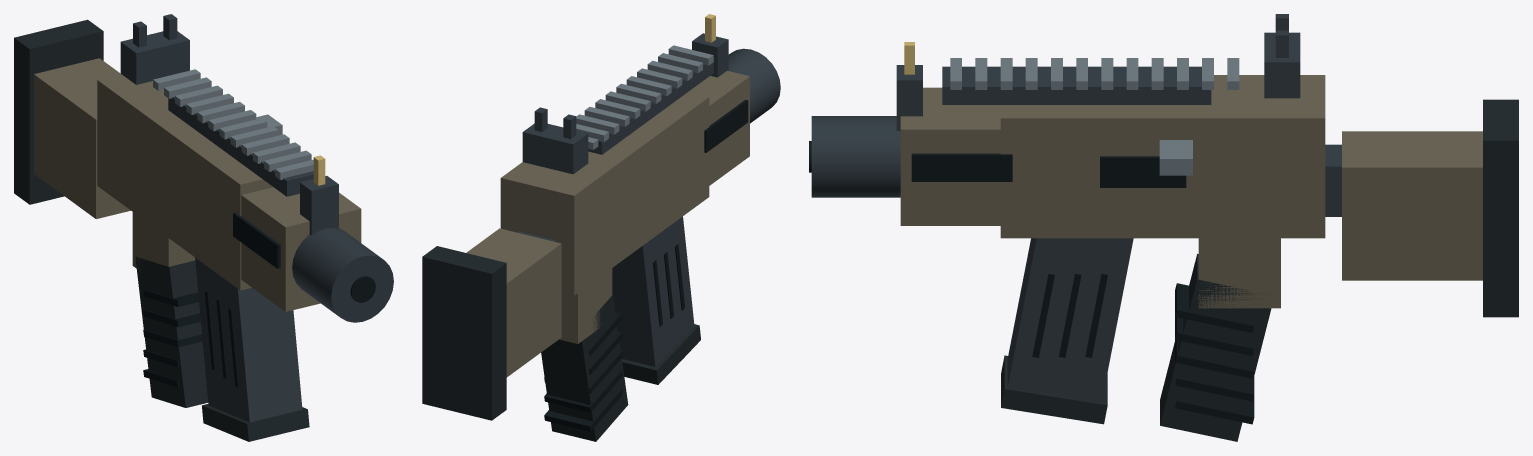
The model's file is smg_02_lynx.glb.
3 renders of one model, left to right at view 1: azimuth 30°, elevation 25°; view 2: azimuth 150°, elevation 25°; view 3: azimuth 270°, elevation 25°, orthographic. The views are drawn at different scales.
Parts seen in each view (by area): view 1: receiver, magazine, stock_body, grip, buttpad, handguard, suppressor, rear_sight_base, magazine_base, upper_rail, grip_tang, front_sight_base (+16 smaller); view 2: receiver, buttpad, magazine, stock_body, grip, handguard, rear_sight_base, grip_tang, suppressor, upper_rail, magazine_base, front_sight_base (+12 smaller); view 3: receiver, stock_body, magazine, handguard, grip, buttpad, upper_rail, suppressor, grip_tang, magazine_base, ejection_port, rear_sight_base (+8 smaller).
Part boxes in pixels (x1,y1,x2,y2): receiver: (97, 74, 273, 290); magazine: (195, 257, 302, 422); stock_body: (34, 58, 130, 218); grip: (135, 256, 208, 407); buttpad: (14, 19, 103, 204); handguard: (241, 187, 361, 311); suppressor: (292, 228, 393, 322); rear_sight_base: (120, 31, 189, 84); magazine_base: (202, 404, 309, 441); upper_rail: (168, 96, 313, 196); grip_tang: (132, 212, 195, 272); front_sight_base: (300, 176, 338, 235); receiver: (500, 92, 709, 295); buttpad: (422, 246, 506, 420); magazine: (612, 216, 694, 366); stock_body: (466, 228, 561, 377); grip: (541, 294, 628, 441); handguard: (688, 70, 749, 185); rear_sight_base: (522, 123, 588, 174); grip_tang: (559, 268, 612, 343); suppressor: (728, 48, 780, 123); upper_rail: (588, 58, 713, 154); magazine_base: (622, 324, 700, 384); front_sight_base: (692, 33, 728, 77); receiver: (1000, 75, 1325, 238); stock_body: (1342, 131, 1482, 280); magazine: (1007, 238, 1133, 402); handguard: (900, 87, 1000, 225); grip: (1160, 253, 1271, 441); buttpad: (1483, 99, 1518, 317); upper_rail: (942, 66, 1211, 104); suppressor: (811, 116, 900, 197); grip_tang: (1198, 238, 1280, 308); magazine_base: (1001, 355, 1107, 424); ejection_port: (1100, 156, 1186, 187); rear_sight_base: (1264, 32, 1300, 98).
Bounding box in the file's own units: 0.113 × 0.3366 × 0.5355.
